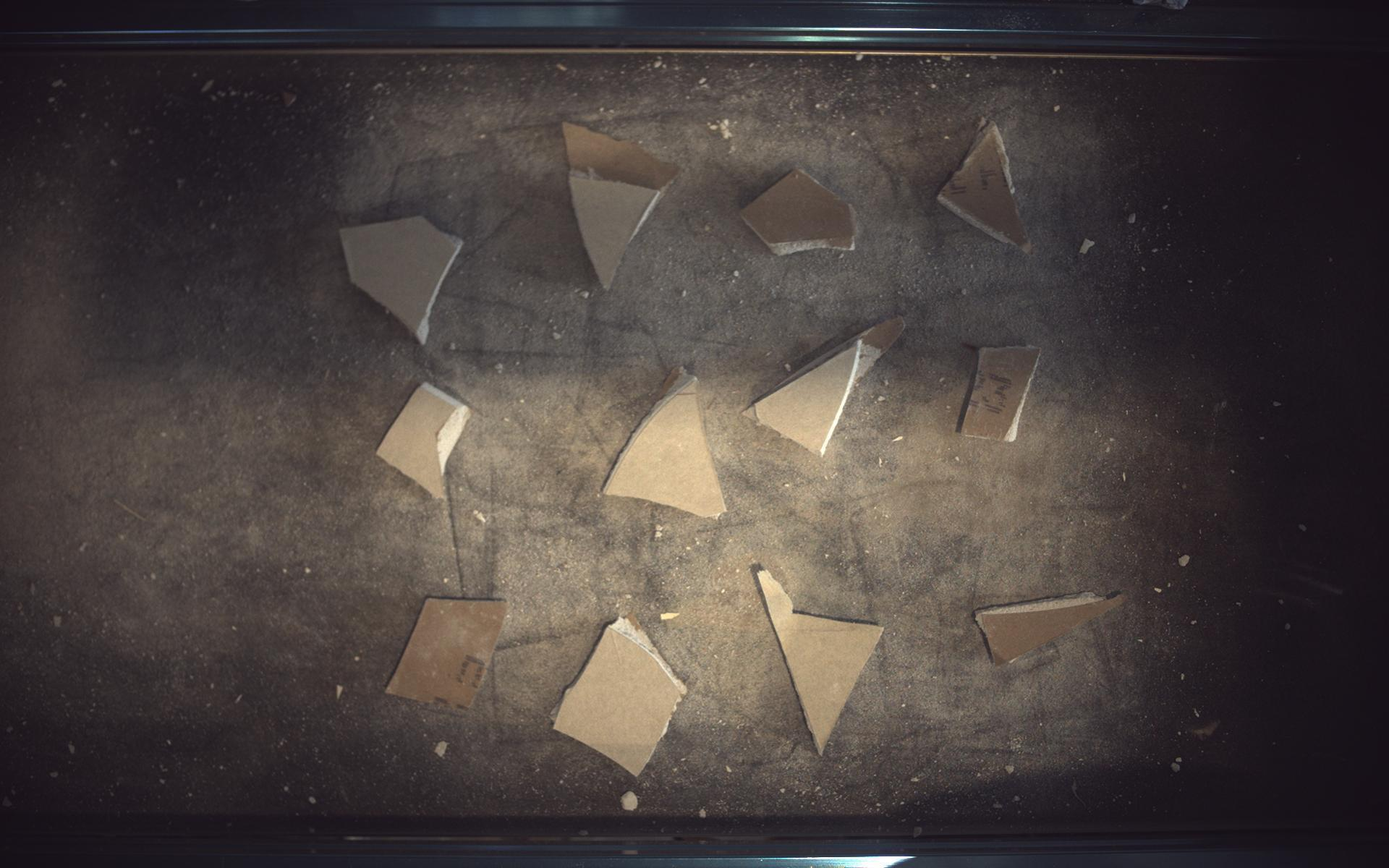gypsum_board: (757, 569, 885, 756), (749, 317, 906, 456), (554, 616, 688, 778), (563, 122, 680, 289), (603, 367, 727, 518), (340, 216, 463, 344), (385, 599, 507, 709), (939, 122, 1035, 252), (376, 382, 471, 499), (977, 593, 1129, 665), (741, 168, 858, 255), (963, 346, 1042, 442)
